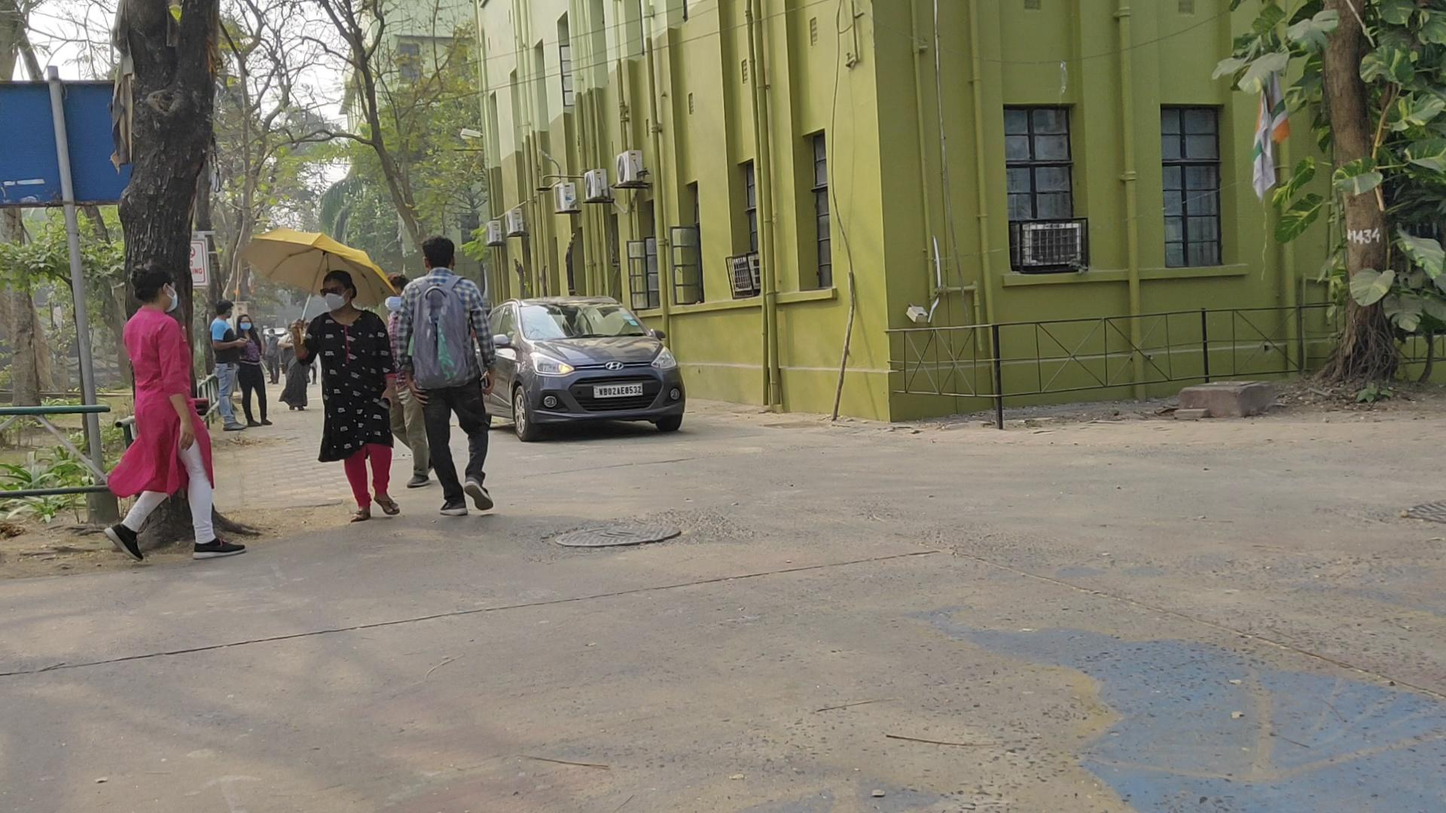car: (477, 295, 685, 443)
